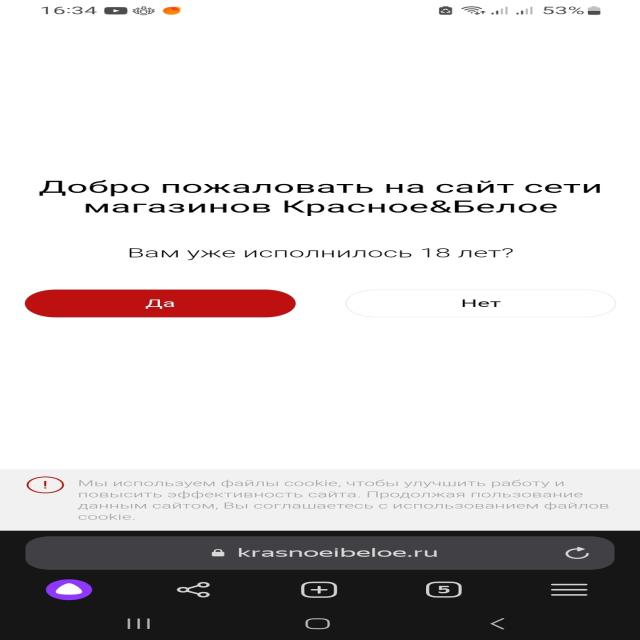button: (347, 288, 617, 319), (24, 287, 296, 317)
site: (2, 23, 640, 469), (2, 470, 639, 530)
